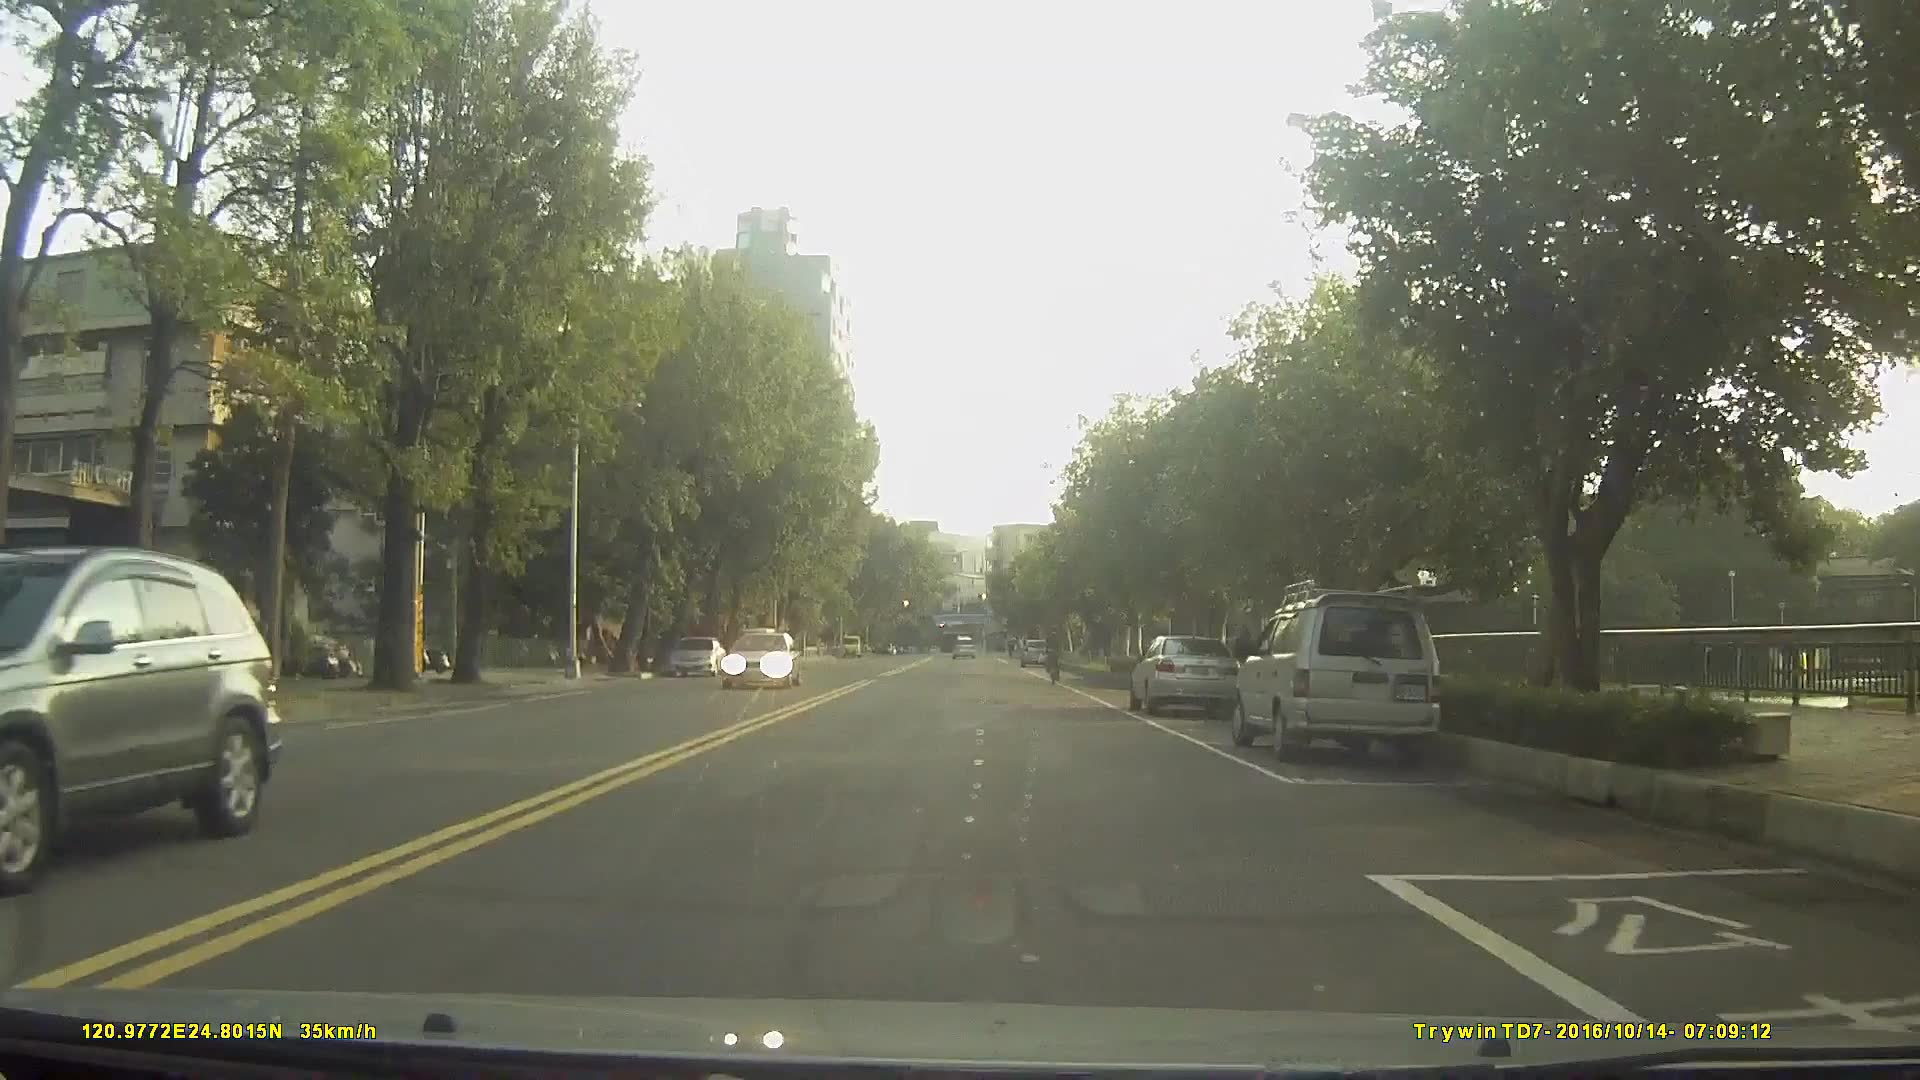rider: (1045, 625, 1066, 691)
vehicle: (0, 542, 281, 898), (1228, 590, 1443, 767), (1128, 632, 1246, 721), (718, 628, 804, 689), (666, 634, 724, 678), (732, 631, 777, 674), (1019, 636, 1050, 669), (947, 634, 975, 661)
